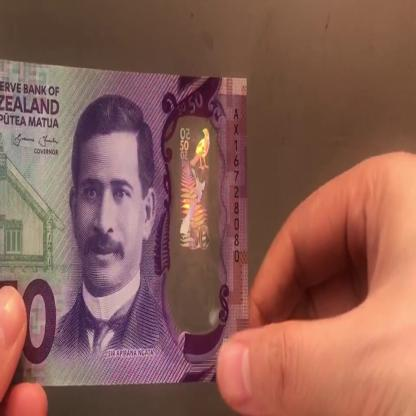50F: (172, 121, 217, 319)
